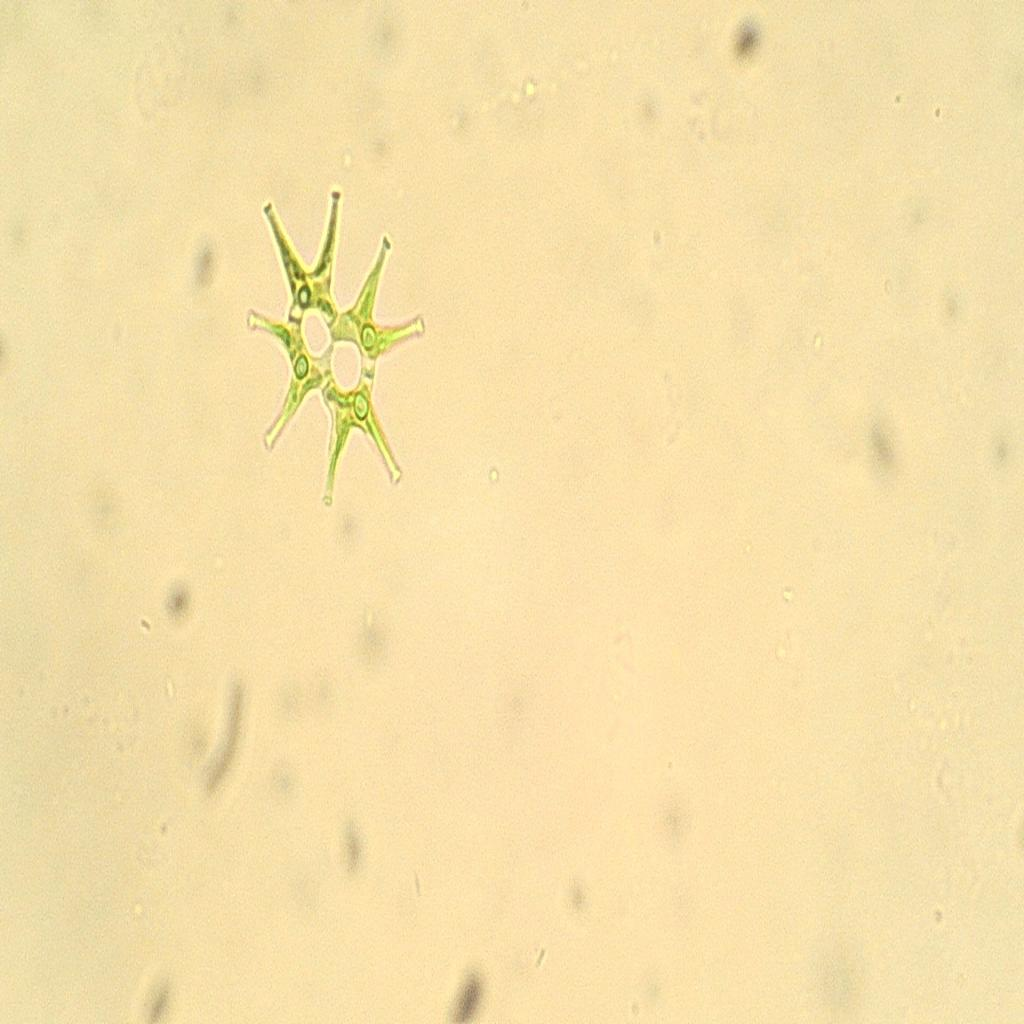Pediastrum_CF: (228, 178, 432, 524)
